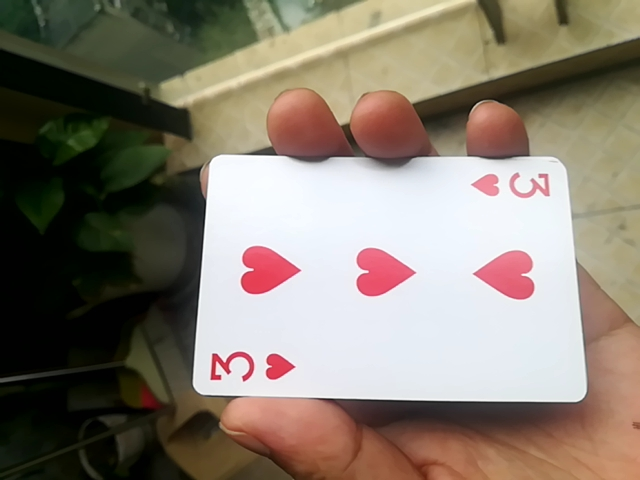hx 3: (185, 153, 590, 410)
